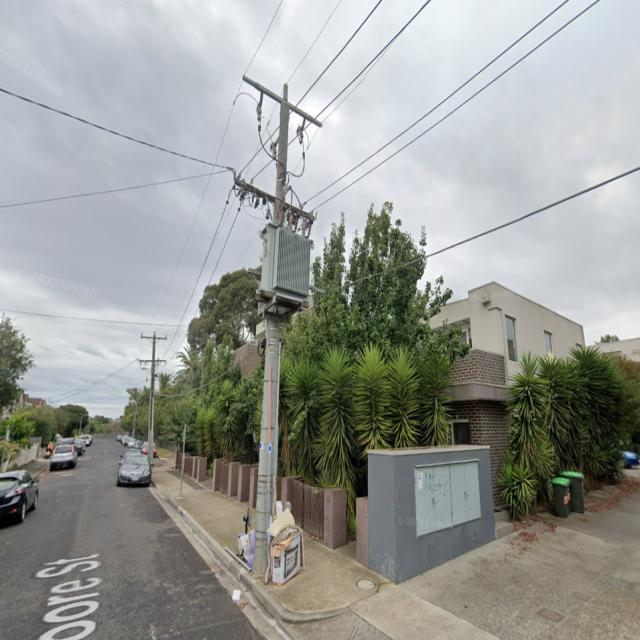HV-transmission: (233, 73, 321, 144), (138, 330, 168, 370)
concrete-pole: (251, 85, 289, 578), (148, 332, 156, 466)
crossarm: (243, 73, 323, 128), (235, 178, 319, 220), (141, 331, 167, 345), (139, 357, 168, 367)
transformer: (257, 211, 314, 312)
